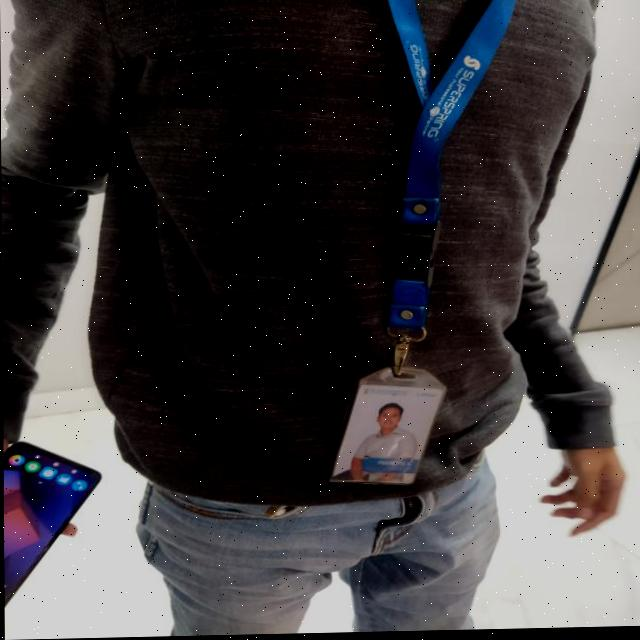id_card: (322, 0, 529, 496)
